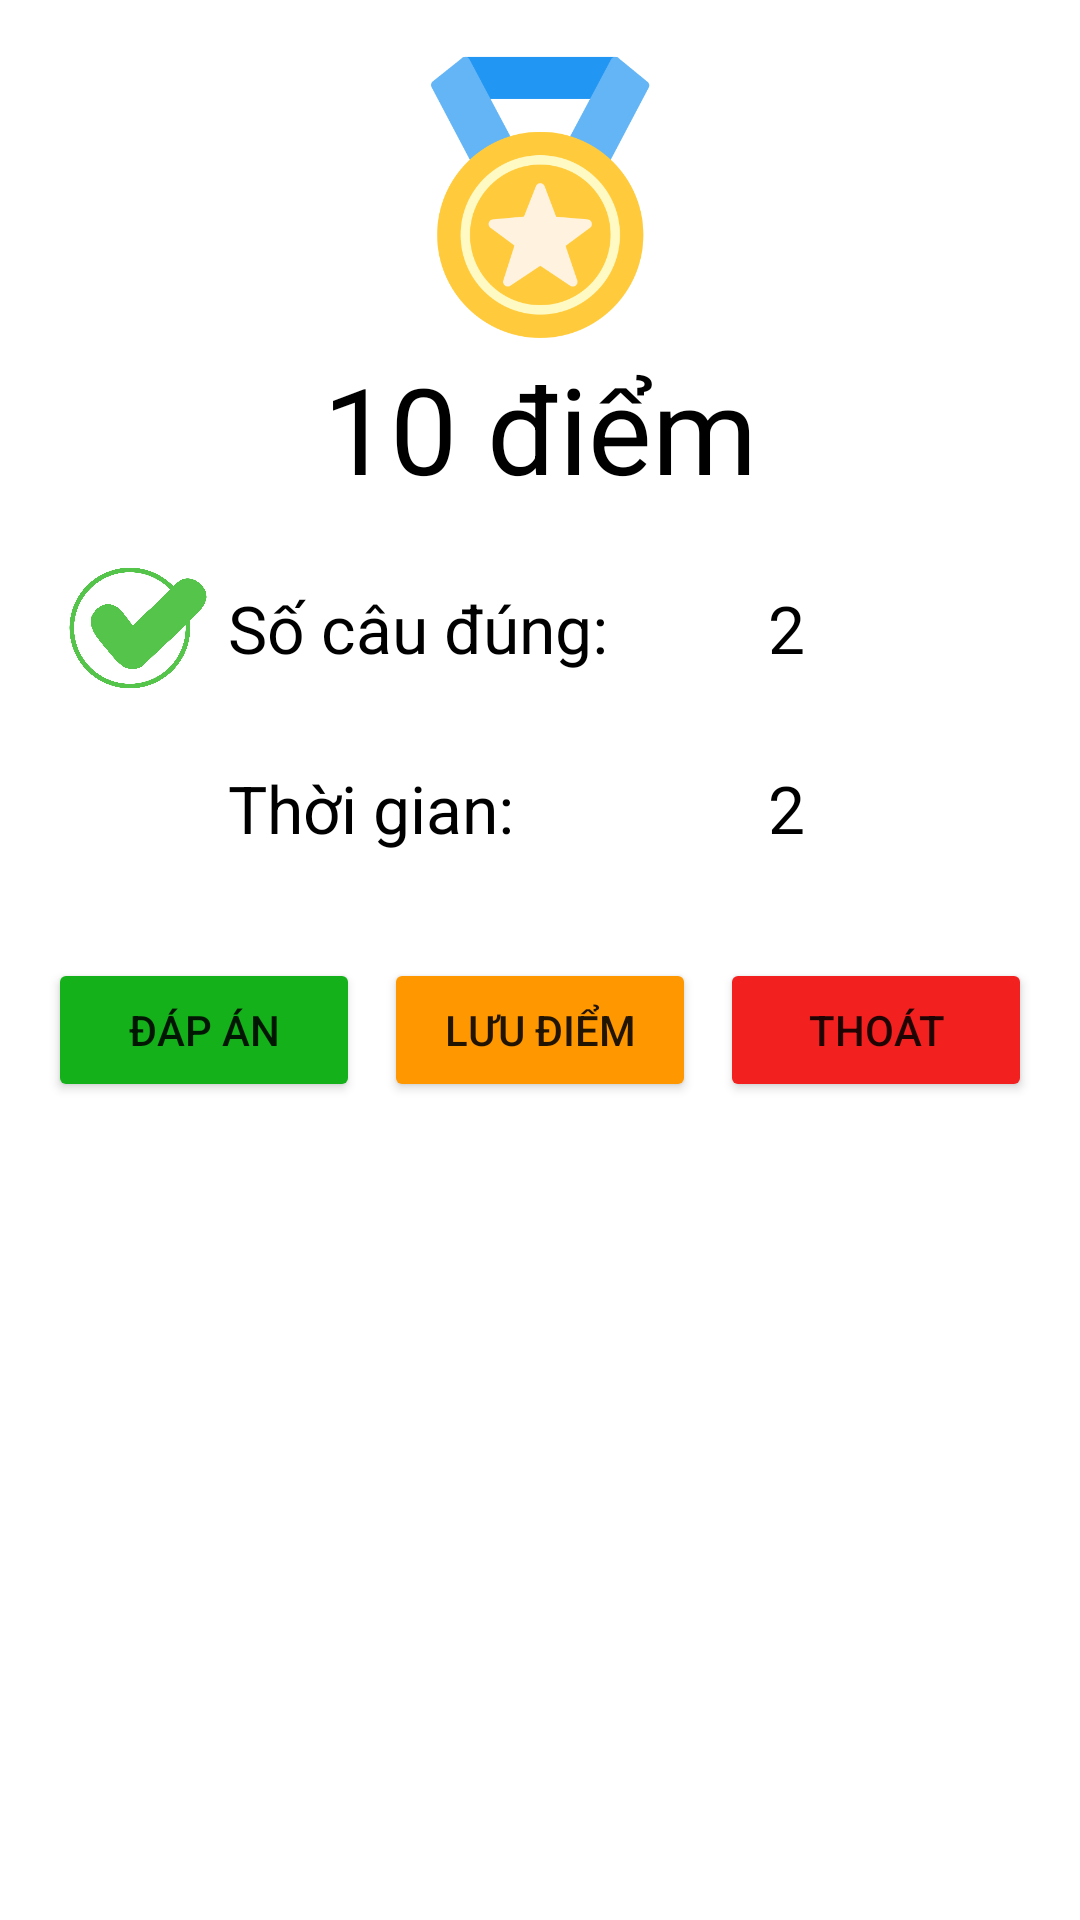

Icon bounding boxes for this 1080 × 1920 phone screenshot, format (left=x1, top=y1, right=x2, bottom=y2):
check: (left=69, top=568, right=207, bottom=688)
huy chuong: (left=431, top=57, right=650, bottom=338)
